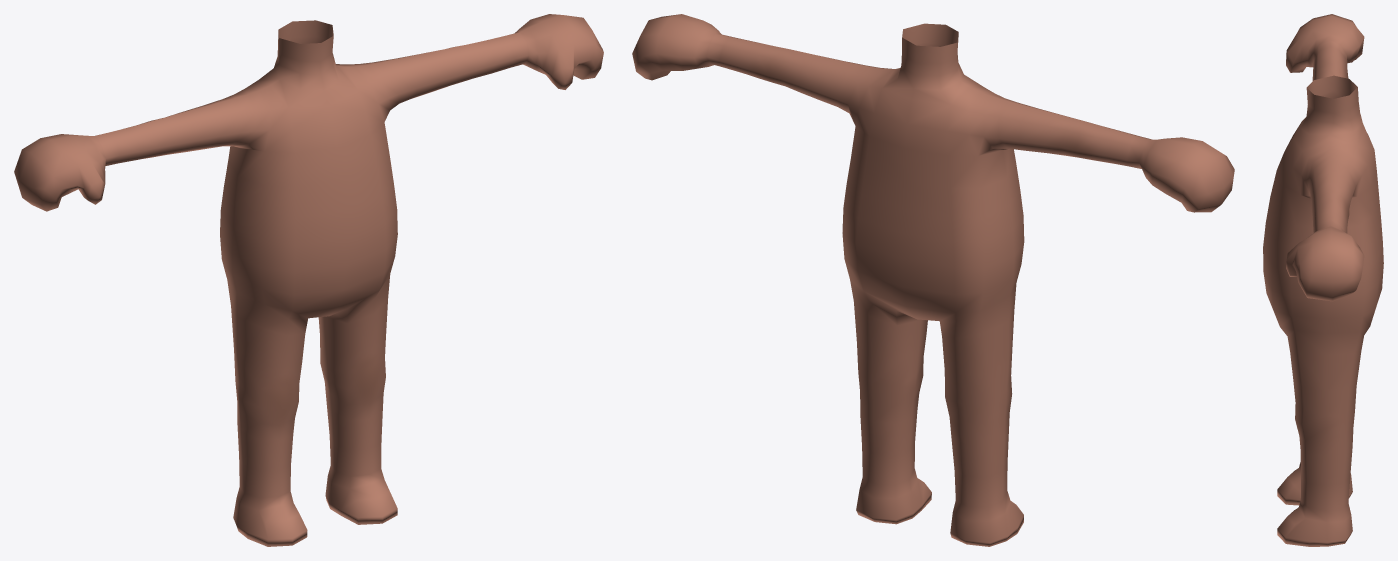
File: Body_Brown_1.fbx
3 renders of one model, left to right at view 1: azimuth 30°, elevation 25°; view 2: azimuth 150°, elevation 25°; view 3: azimuth 270°, elevation 25°, orthographic. The views are drawn at different scales.
Visible parts, largest first — view 1: Body_Brown_1; view 2: Body_Brown_1; view 3: Body_Brown_1.
Part boxes in pixels (bbox=[...]): Body_Brown_1: bbox=[14, 14, 603, 546]; Body_Brown_1: bbox=[632, 14, 1234, 546]; Body_Brown_1: bbox=[1263, 14, 1383, 546].
Size of the model in its own units: 130 by 104 by 26.46.
